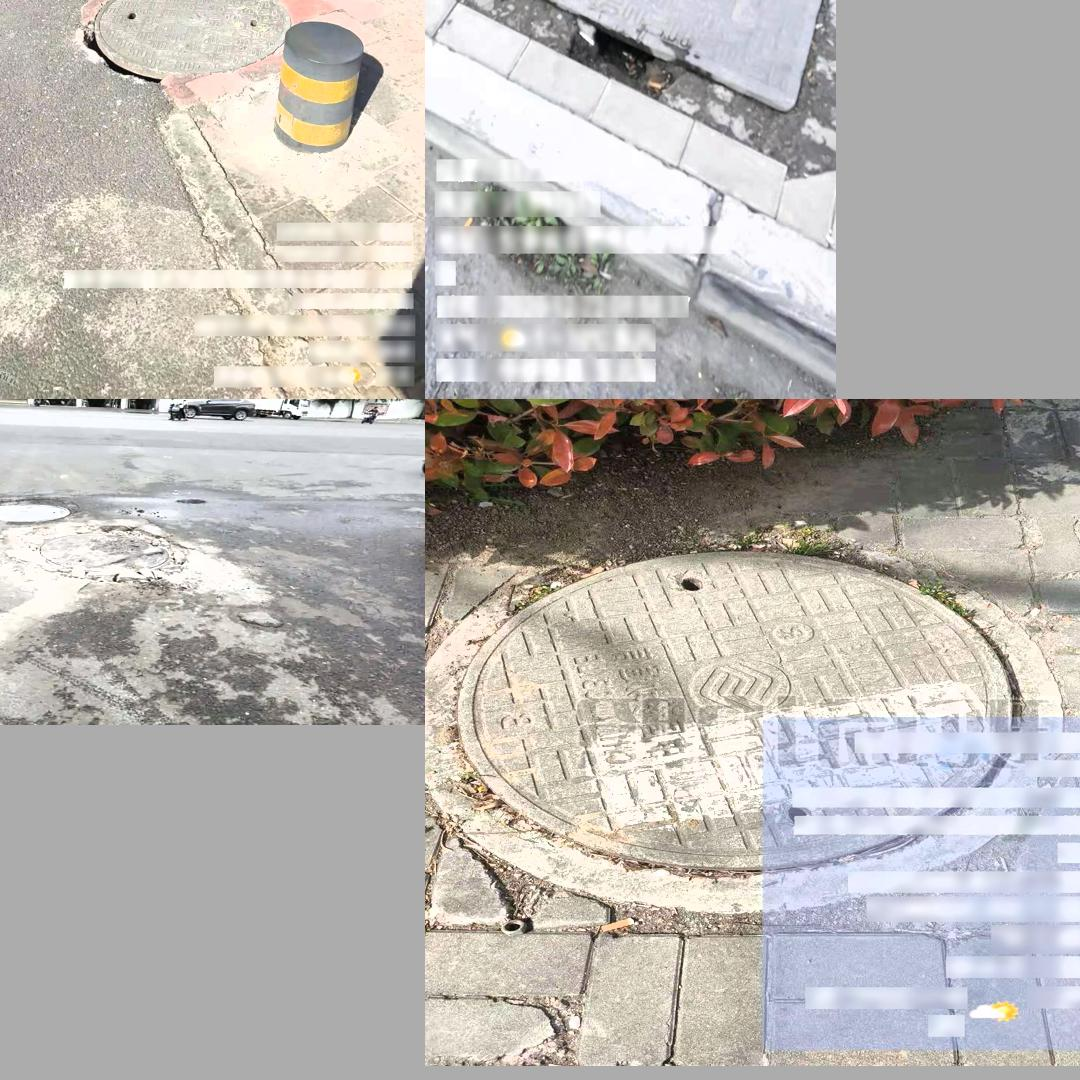circle: (438, 534, 1031, 898), (430, 0, 836, 142), (9, 519, 234, 610), (78, 0, 294, 91)
